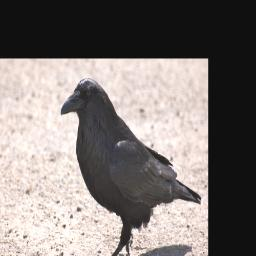Crow: (59, 77, 203, 256)
